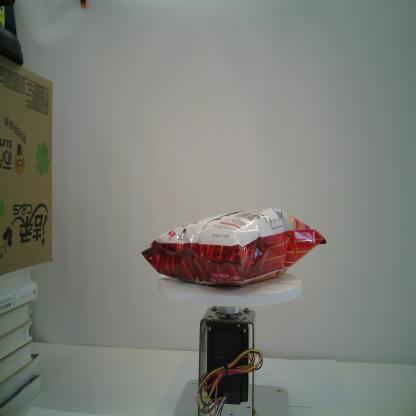Puffed Food: (140, 206, 328, 288)
